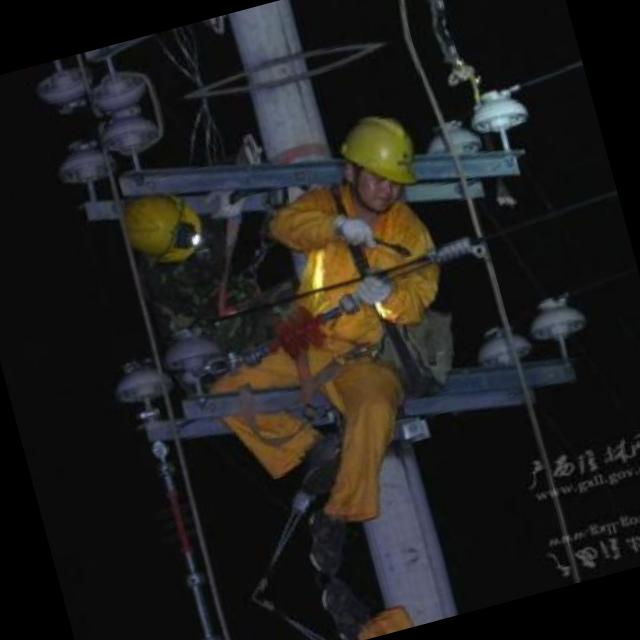helmet: (320, 92, 433, 222), (113, 176, 216, 276)
